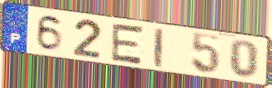0: (227, 38, 260, 80)
2: (71, 18, 105, 60)
5: (189, 33, 222, 76)
6: (35, 15, 64, 53)
E: (108, 22, 147, 67)
I: (153, 26, 165, 70)
